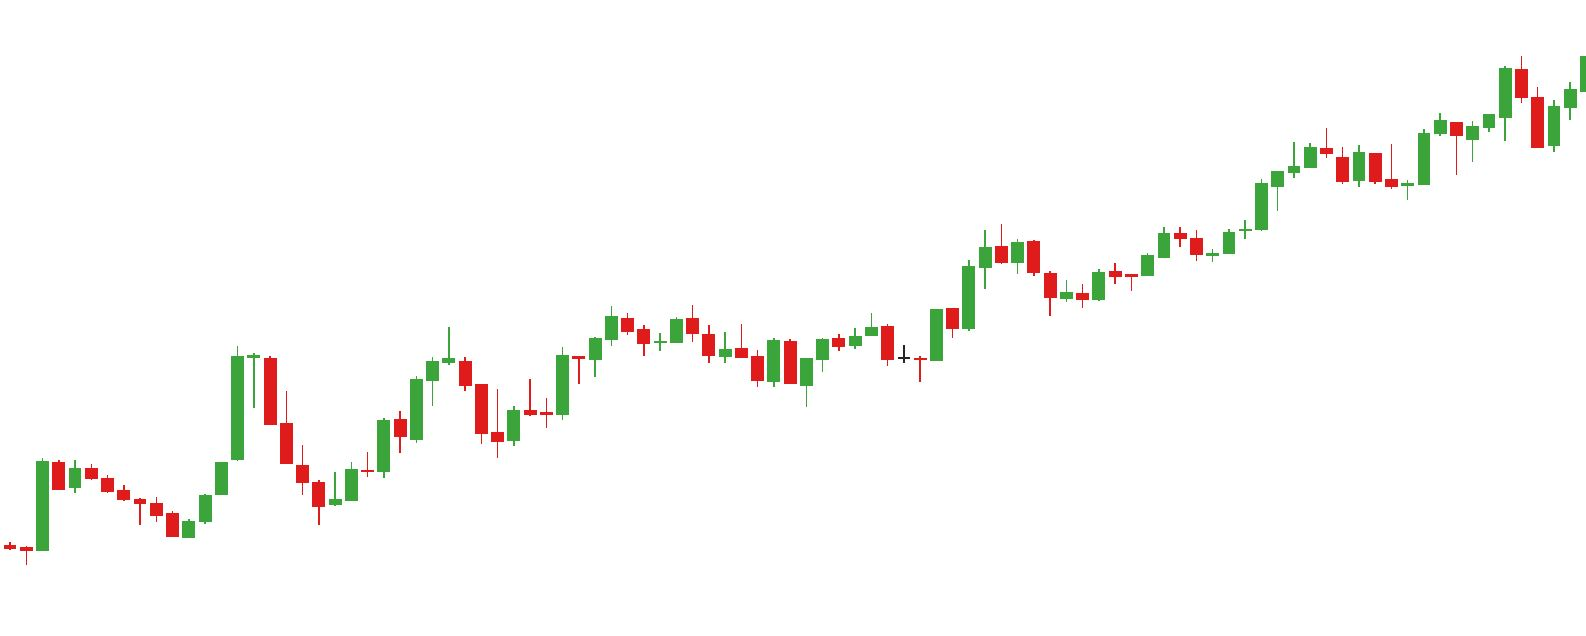buy: (571, 332, 783, 394)
